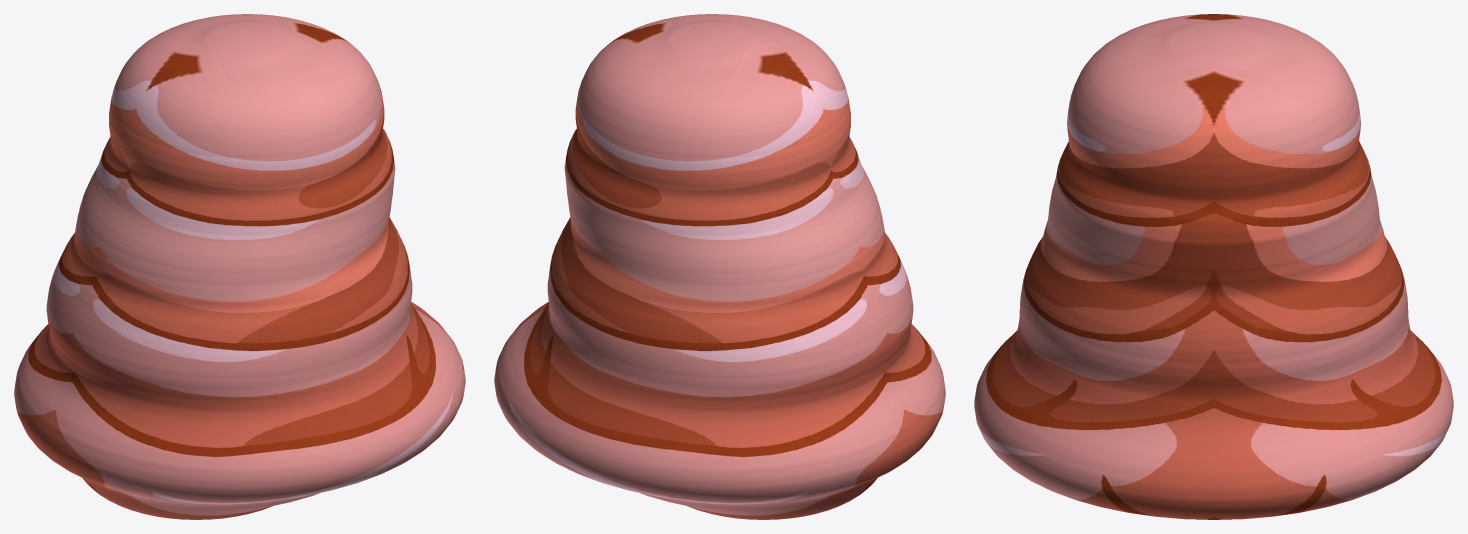
File: coral_rock_stack.glb
The picture shows the model from 3 angles, left to right: view 1: azimuth 30°, elevation 25°; view 2: azimuth 150°, elevation 25°; view 3: azimuth 270°, elevation 25°; orthographic projection. The views are drawn at different scales.
Visible parts, largest first — view 1: coral_rock_stack; view 2: coral_rock_stack; view 3: coral_rock_stack.
Part boxes in pixels (bbox=[...]): coral_rock_stack: bbox=[14, 14, 465, 519]; coral_rock_stack: bbox=[494, 14, 945, 519]; coral_rock_stack: bbox=[974, 14, 1453, 519].
Size of the model in its own units: 0.9993 by 1.09 by 0.9943.
Materials: 1 (1 with a texture image).
